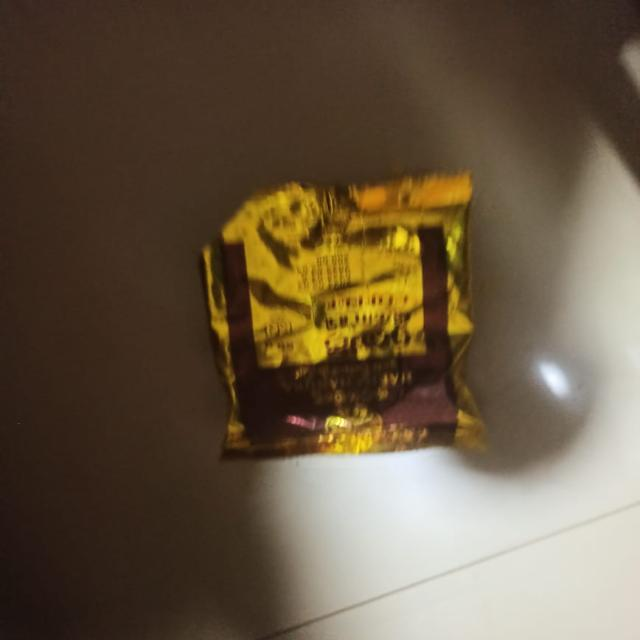Harischandra Coffee: (165, 157, 531, 482)
